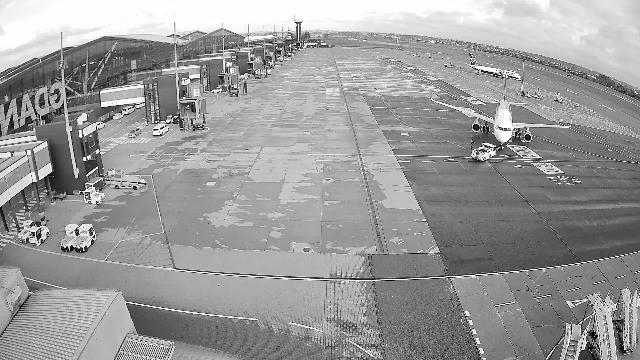Aircraft: (431, 74, 572, 149), (469, 53, 522, 79)
Airport_Tractor: (72, 224, 97, 253), (60, 224, 80, 252), (28, 226, 50, 246), (83, 186, 106, 205), (18, 220, 37, 243)
Baggage_Trolley: (85, 176, 104, 192), (52, 188, 66, 200)
Conveyor_Belt: (105, 170, 147, 190)
Ground_Crew: (470, 138, 474, 150)
Pushback_Tug: (471, 142, 496, 161)
